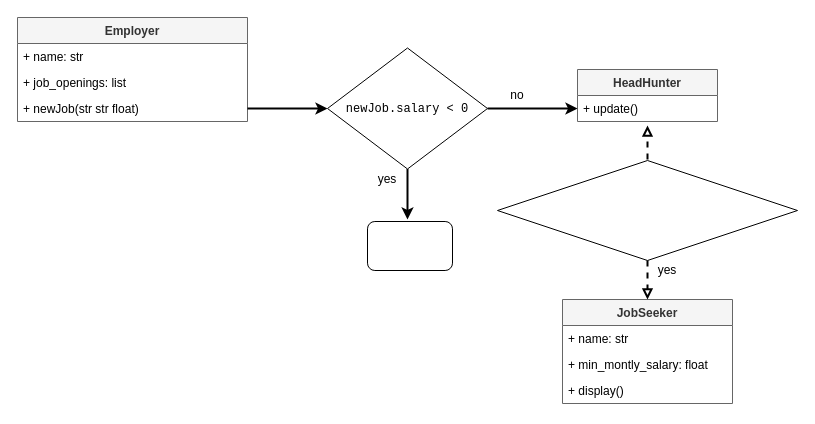
Some shapes in this 815 by 424 pixel diagram are drawn without their labels. Each missing label, with the centre of its shape:
exit(-1): (409,245)
newJob.salary >= jobSeeker.min_monthly_salary: (647,210)
